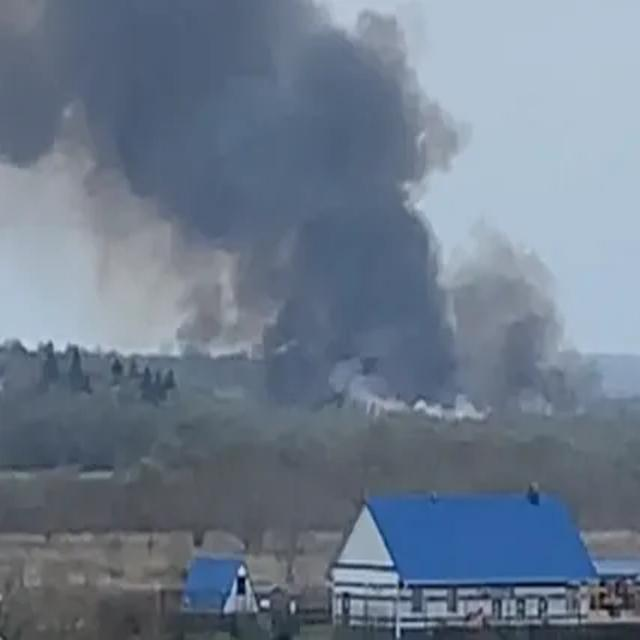Smoke: (0, 2, 600, 411)
